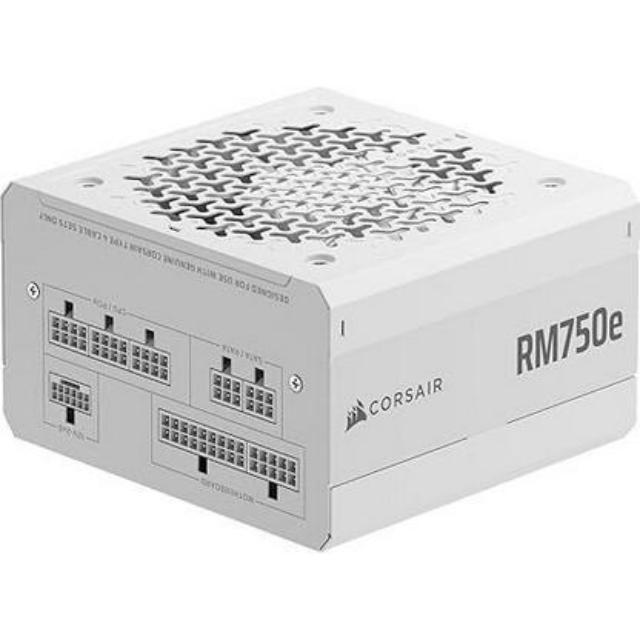PSU: (0, 82, 640, 548)
